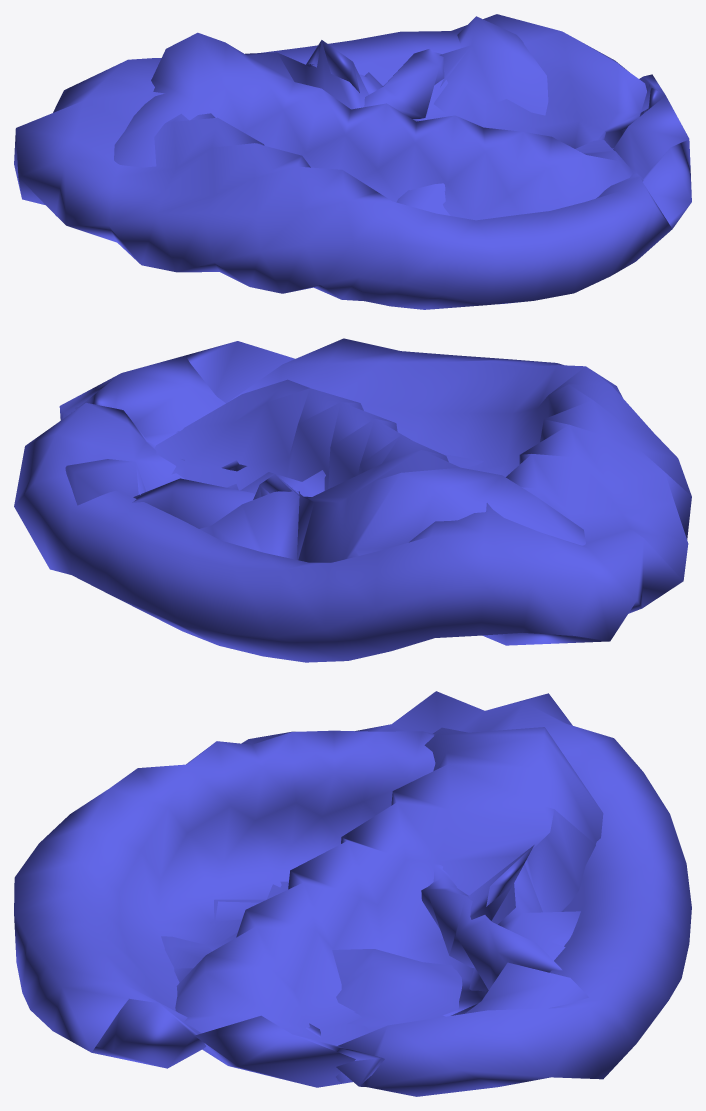
Rendered from DeflatedBalloon 2.fbx.
The picture shows the model from 3 angles, top to bottom: view 1: azimuth 30°, elevation 25°; view 2: azimuth 150°, elevation 25°; view 3: azimuth 270°, elevation 25°; orthographic projection. The views are drawn at different scales.
Visible parts, largest first — view 1: Cube; view 2: Cube; view 3: Cube.
Boxes of the visible parts, x1=… form: Cube: x1=14, y1=14, x2=691, y2=309; Cube: x1=14, y1=338, x2=691, y2=662; Cube: x1=14, y1=691, x2=691, y2=1096.
Size of the model in its own units: 254 by 67.73 by 212.
